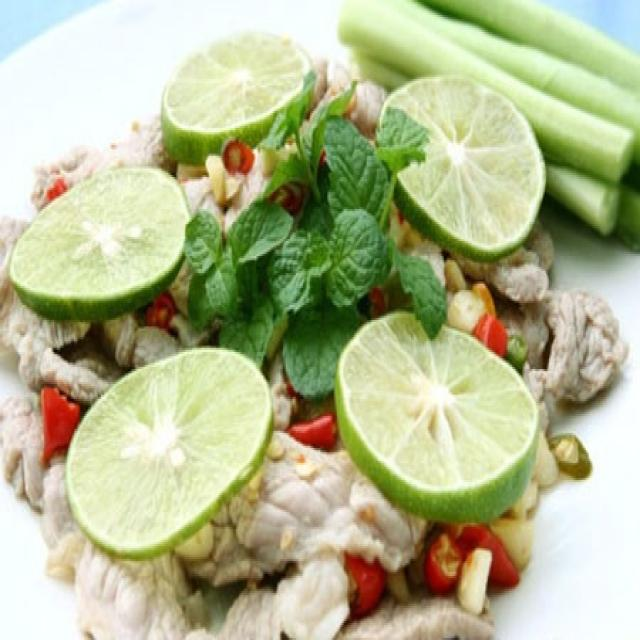猪肉菜式: (7, 21, 617, 634)
